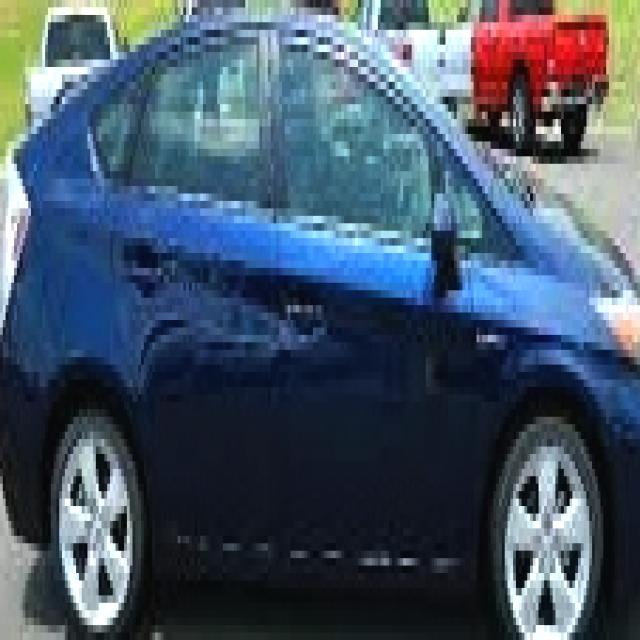blue: (2, 31, 640, 640)
